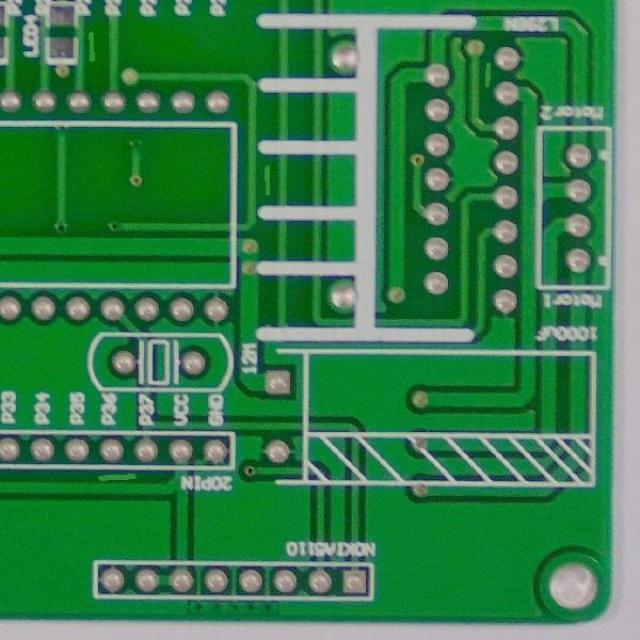Spurious_Cooper: (84, 26, 102, 68), (258, 159, 276, 200), (91, 472, 142, 484), (482, 56, 493, 94)
